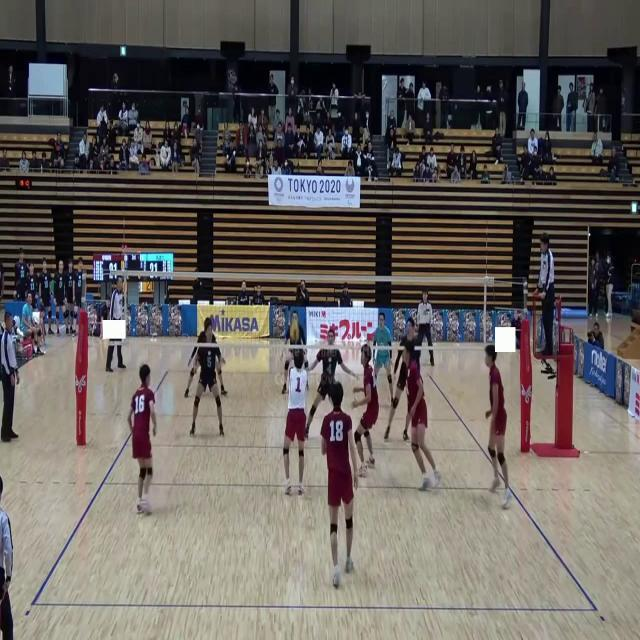volleyball: (290, 321, 300, 342)
